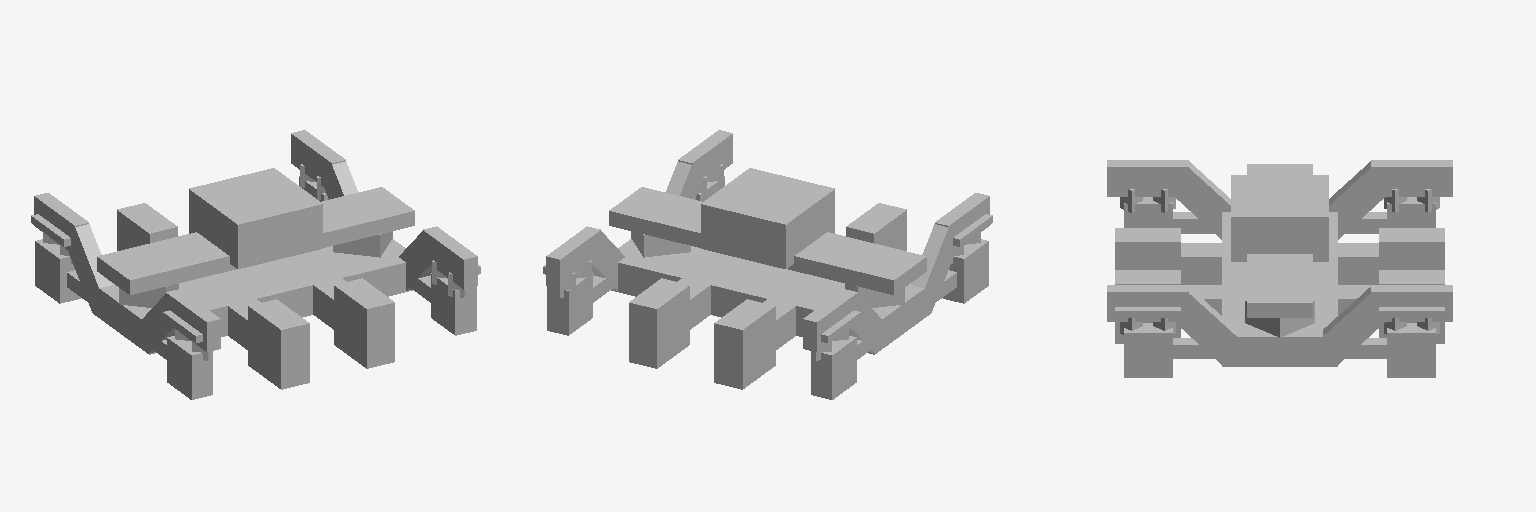
The model's file is modern_frame.obj.
The picture shows the model from 3 angles: view 1: azimuth 30°, elevation 25°; view 2: azimuth 150°, elevation 25°; view 3: azimuth 270°, elevation 25°; orthographic projection.
Visible parts, largest first — view 1: cube1, cube3, cube2, cube22, cube30, cube16, cube23, cube12, cube24, cube6, cube15, cube39 (+11 smaller); view 2: cube1, cube3, cube2, cube12, cube32, cube6, cube39, cube22, cube38, cube16, cube23, cube4 (+11 smaller); view 3: cube3, cube1, cube2, cube15, cube4, cube12, cube22, cube24, cube38, cube23, cube33, cube39 (+18 smaller).
Boxes of the visible parts, x1,y1,x2,y2 form: cube1: [92, 239, 412, 354]; cube3: [189, 168, 322, 268]; cube2: [97, 187, 414, 294]; cube22: [248, 299, 309, 389]; cube30: [334, 278, 394, 368]; cube16: [167, 336, 212, 399]; cube23: [423, 226, 477, 289]; cube12: [117, 203, 177, 250]; cube24: [431, 273, 476, 335]; cube6: [35, 239, 80, 303]; cube15: [166, 289, 220, 351]; cube39: [291, 130, 345, 188]; cube1: [611, 239, 931, 354]; cube3: [701, 168, 834, 268]; cube2: [609, 187, 926, 294]; cube12: [714, 299, 775, 389]; cube32: [629, 278, 689, 368]; cube6: [811, 336, 856, 399]; cube39: [546, 226, 600, 289]; cube22: [846, 203, 906, 250]; cube38: [547, 273, 592, 335]; cube16: [943, 239, 988, 303]; cube23: [678, 130, 732, 192]; cube4: [803, 289, 857, 351]; cube3: [1231, 175, 1328, 261]; cube1: [1222, 212, 1337, 366]; cube2: [1247, 164, 1312, 317]; cube15: [1107, 160, 1188, 196]; cube4: [1371, 160, 1452, 196]; cube12: [1379, 228, 1444, 269]; cube22: [1115, 228, 1180, 269]; cube24: [1124, 323, 1172, 377]; cube38: [1387, 323, 1435, 377]; cube23: [1107, 285, 1188, 321]; cube33: [1315, 287, 1389, 364]; cube39: [1371, 285, 1452, 321].
Bounding box in the file's own units: 2.5 × 1 × 2.62.